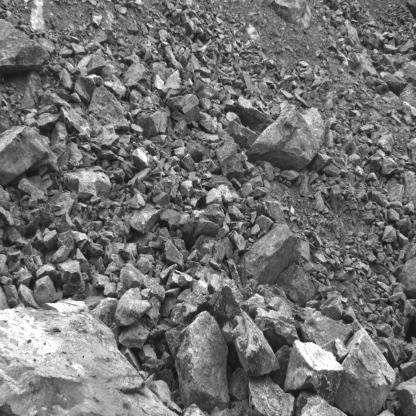stone: (0, 299, 203, 416), (208, 283, 279, 375), (165, 311, 229, 411), (335, 319, 396, 416), (245, 100, 320, 172), (283, 339, 343, 405), (237, 221, 295, 284), (0, 18, 51, 77), (0, 125, 49, 186), (248, 374, 295, 416), (254, 307, 297, 352), (88, 86, 130, 130), (276, 262, 316, 307), (182, 203, 225, 244), (64, 167, 111, 201), (114, 286, 151, 326), (216, 131, 244, 180), (295, 390, 347, 416), (118, 317, 154, 350), (268, 345, 292, 389), (129, 201, 160, 234), (228, 121, 258, 152), (136, 111, 168, 140), (122, 60, 152, 90), (180, 287, 206, 319), (56, 258, 83, 288), (396, 376, 416, 416), (119, 259, 145, 289), (92, 297, 117, 327), (34, 275, 58, 305), (228, 367, 249, 401), (48, 63, 74, 90), (101, 73, 126, 100), (164, 238, 185, 270), (320, 338, 349, 361), (320, 290, 342, 319), (160, 209, 189, 231), (259, 198, 284, 223), (143, 274, 165, 302), (17, 283, 40, 309), (150, 380, 172, 406), (384, 176, 404, 204), (40, 89, 71, 107), (181, 94, 200, 121), (403, 170, 416, 209), (197, 77, 219, 99), (37, 112, 60, 133), (51, 120, 68, 147), (71, 230, 90, 254), (132, 148, 152, 170), (146, 297, 161, 326), (198, 111, 217, 133), (141, 357, 165, 374), (228, 231, 248, 251), (57, 212, 76, 232), (159, 296, 177, 317), (74, 80, 91, 102), (76, 248, 90, 274), (138, 344, 157, 363), (179, 403, 206, 416), (51, 245, 69, 264), (380, 157, 398, 176), (400, 360, 416, 381), (165, 69, 181, 90), (204, 188, 222, 206), (88, 55, 105, 74), (376, 134, 393, 153), (395, 215, 412, 234), (255, 215, 273, 231), (92, 273, 110, 289), (181, 153, 196, 172), (166, 96, 185, 111), (313, 194, 328, 213), (226, 206, 245, 221), (179, 178, 193, 198), (171, 111, 191, 125), (44, 230, 58, 250), (397, 39, 414, 55), (101, 134, 120, 148), (61, 107, 73, 129), (137, 257, 152, 274), (322, 163, 340, 177), (152, 192, 170, 206), (129, 193, 145, 208), (166, 400, 182, 415), (226, 111, 242, 126), (279, 170, 299, 182), (382, 225, 396, 242), (175, 121, 188, 139), (179, 47, 191, 66), (251, 186, 268, 199), (152, 83, 169, 96), (342, 306, 357, 320), (368, 156, 381, 172), (187, 54, 200, 70), (170, 147, 187, 159), (160, 352, 172, 369), (199, 97, 213, 111), (178, 275, 192, 289), (115, 282, 127, 298), (171, 8, 181, 26), (129, 123, 143, 135), (349, 153, 361, 167), (193, 79, 205, 92), (173, 239, 186, 251), (389, 292, 403, 302), (231, 178, 241, 190), (0, 276, 13, 285), (159, 29, 167, 43), (246, 196, 256, 207), (7, 297, 18, 307), (90, 196, 102, 205), (38, 166, 48, 176), (141, 288, 150, 299), (250, 211, 257, 224), (110, 273, 120, 282), (364, 306, 373, 316), (367, 303, 376, 312), (117, 156, 124, 162)
